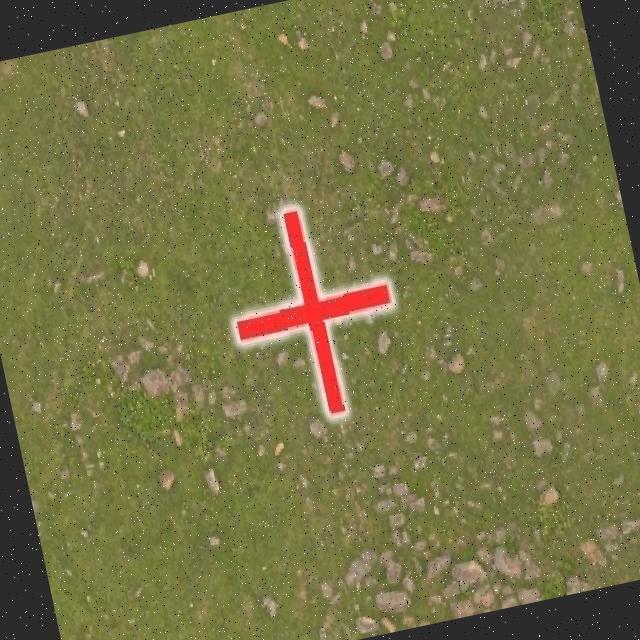x_marker: (213, 192, 411, 430)
